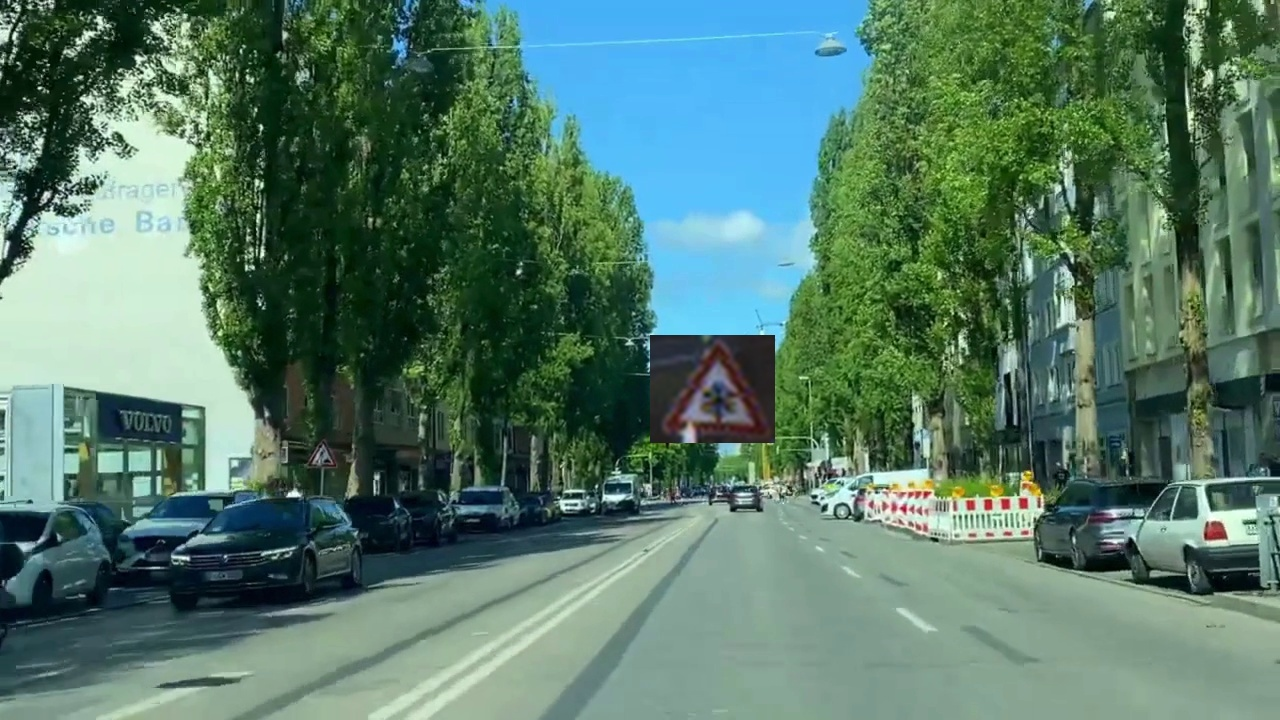Ice/snow: (650, 335, 775, 443)
